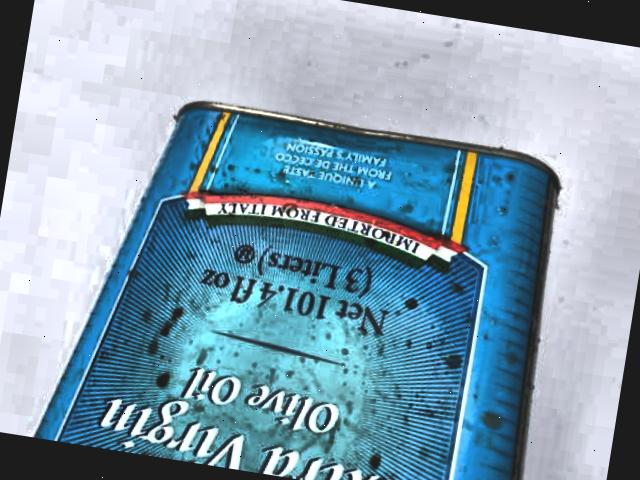Almennt: (44, 59, 640, 480)
